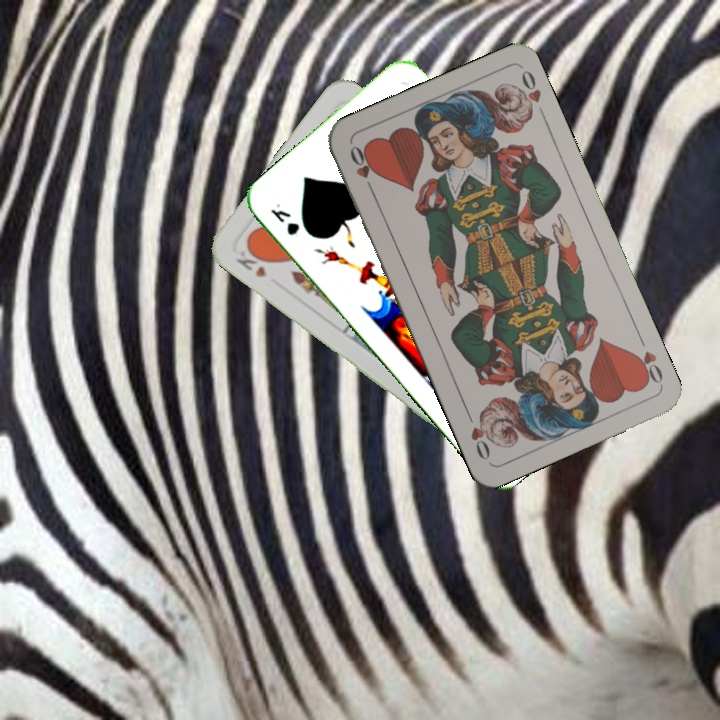GK: (266, 199, 303, 239)
HK: (232, 241, 272, 280)
HO: (628, 331, 666, 387), (346, 141, 378, 197)
